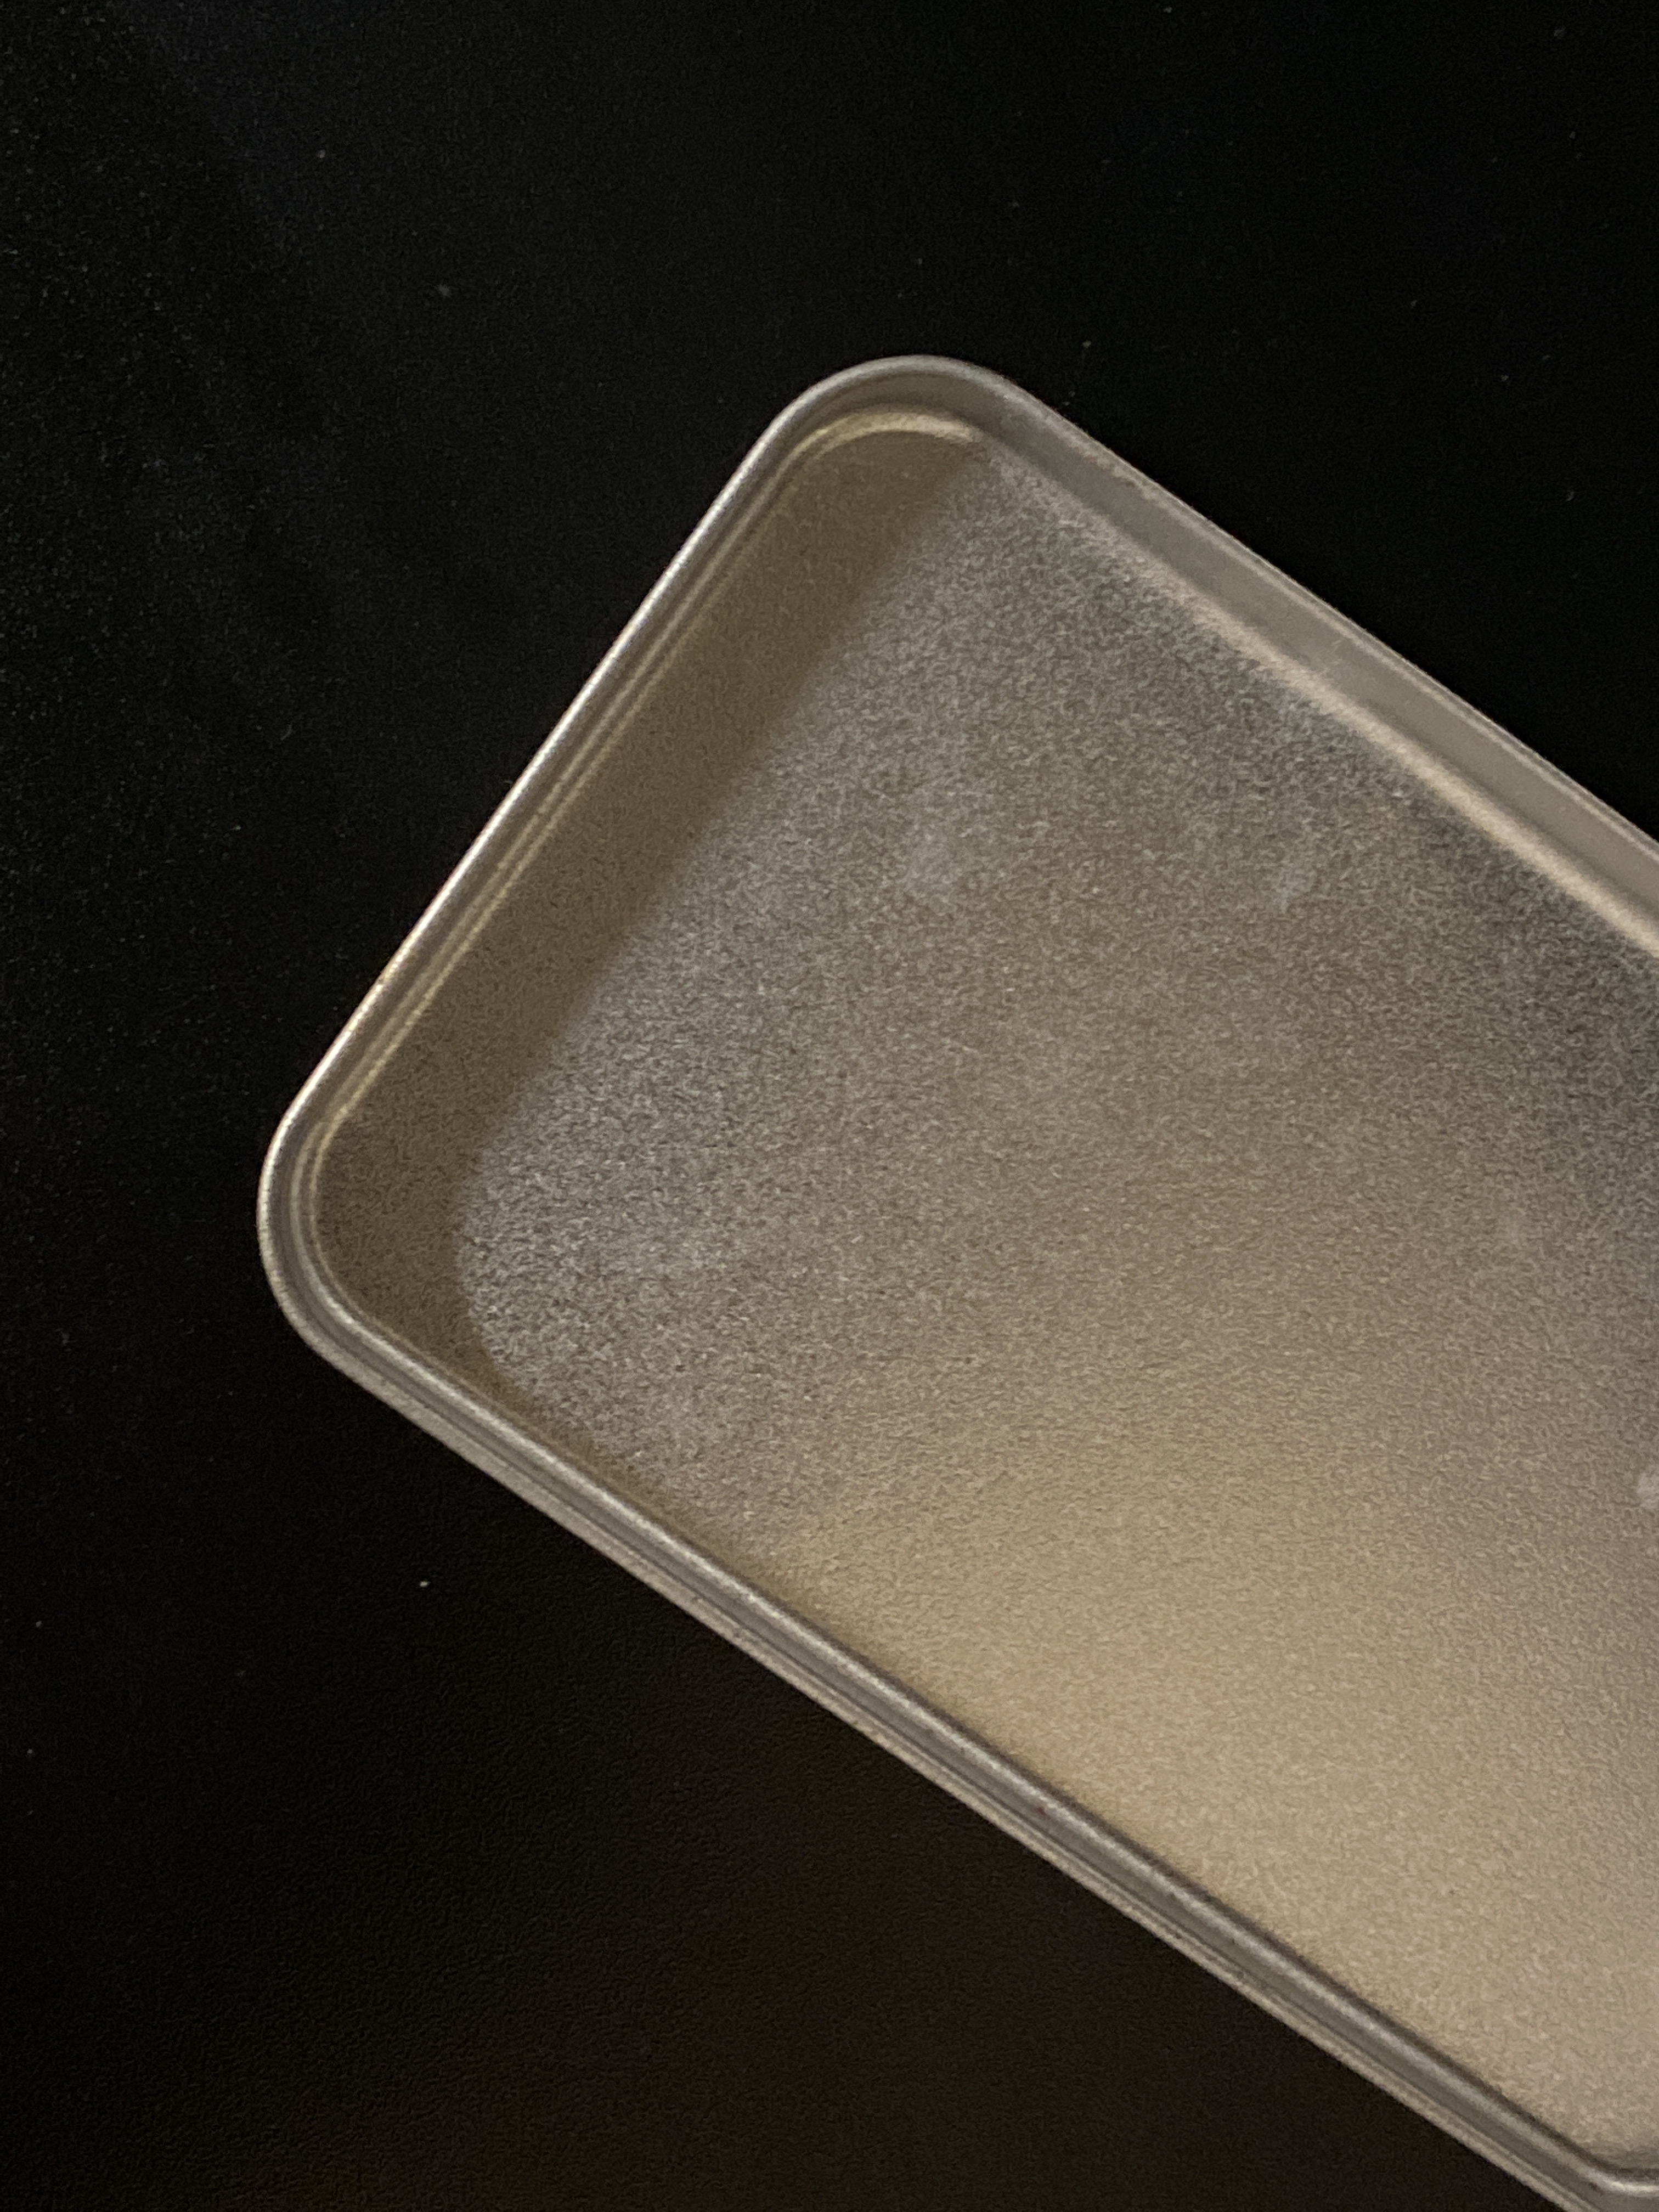metal: (192, 266, 1659, 2212)
